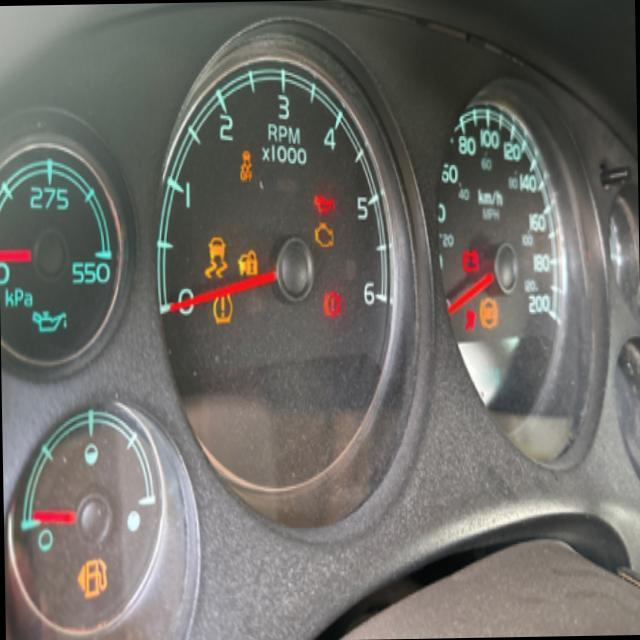Low fuel level: (82, 548, 110, 600)
security: (236, 242, 260, 282)
